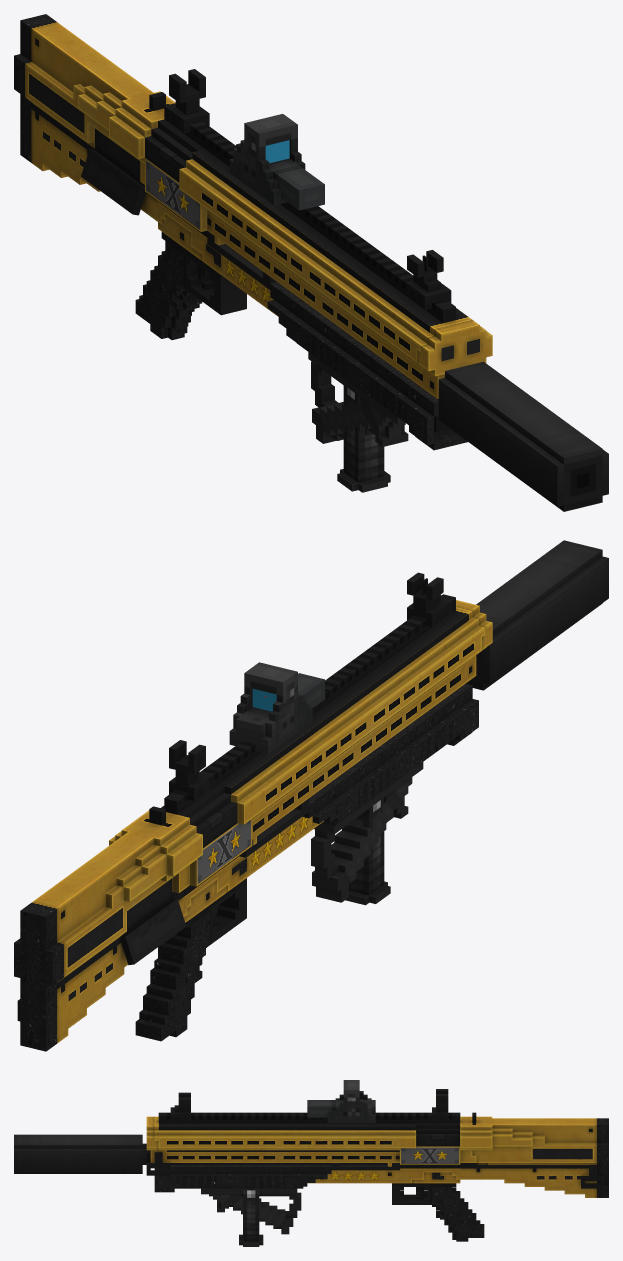
Rendered from RD_UTS15_VETERAN.glb.
3 views of the same model, one above another, from view 1: azimuth 30°, elevation 25°; view 2: azimuth 150°, elevation 25°; view 3: azimuth 270°, elevation 25° (orthographic). The views are drawn at different scales.
Parts seen in each view (by area): view 1: UTS15, SILENCER_8X8, UTAS_UTS15_FOREND, GRIP2, UTAS_UTS15_SCOPE, SCOPE_EOTECH, SCOPE_HOLOSUN, GRIP1, UTAS_UTS15_CAP; view 2: UTS15, SILENCER_8X8, UTAS_UTS15_FOREND, GRIP2, SCOPE_HOLOSUN, UTAS_UTS15_SCOPE, GRIP1, SCOPE_EOTECH, UTAS_UTS15_CAP; view 3: UTS15, SILENCER_8X8, UTAS_UTS15_FOREND, GRIP2, SCOPE_EOTECH, GRIP1, UTAS_UTS15_SCOPE, SCOPE_HOLOSUN.
Boxes of the visible parts, x1,y1,x2,y2 form: UTS15: (14, 14, 492, 432); SILENCER_8X8: (438, 361, 608, 511); UTAS_UTS15_FOREND: (207, 231, 467, 450); GRIP2: (308, 352, 408, 446); UTAS_UTS15_SCOPE: (169, 69, 451, 309); SCOPE_EOTECH: (237, 133, 324, 210); SCOPE_HOLOSUN: (229, 114, 297, 194); GRIP1: (337, 385, 390, 492); UTAS_UTS15_CAP: (145, 127, 192, 182); UTS15: (14, 594, 492, 1051); SILENCER_8X8: (466, 540, 608, 690); UTAS_UTS15_FOREND: (239, 684, 478, 857); GRIP2: (311, 762, 423, 902); SCOPE_HOLOSUN: (229, 662, 297, 753); UTAS_UTS15_SCOPE: (169, 572, 451, 801); GRIP1: (345, 798, 390, 905); SCOPE_EOTECH: (237, 673, 324, 747); UTAS_UTS15_CAP: (190, 793, 237, 847); UTS15: (142, 1112, 608, 1241); SILENCER_8X8: (14, 1134, 142, 1173); UTAS_UTS15_FOREND: (154, 1163, 399, 1192); GRIP2: (201, 1188, 301, 1234); SCOPE_EOTECH: (307, 1092, 367, 1122); GRIP1: (239, 1188, 263, 1246); UTAS_UTS15_SCOPE: (170, 1089, 448, 1121); SCOPE_HOLOSUN: (343, 1080, 375, 1122).
Bounding box in the file's own units: 0.0984 × 0.4231 × 1.46.
8 materials, 8 textured.
